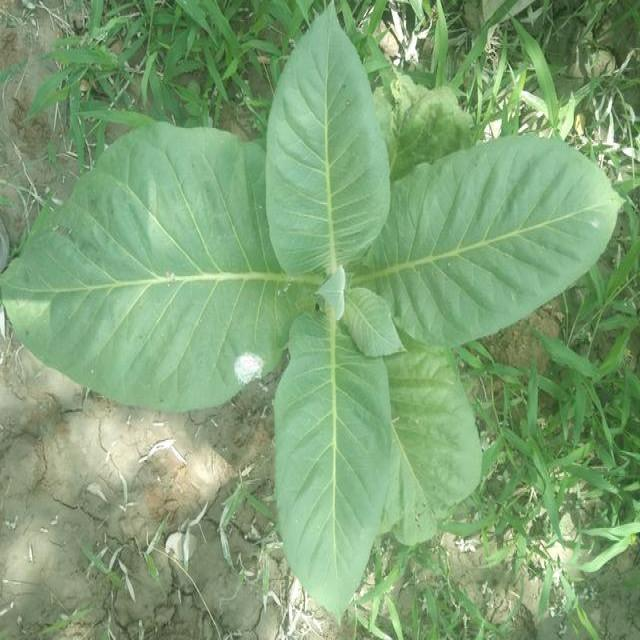crop: (0, 4, 621, 600)
